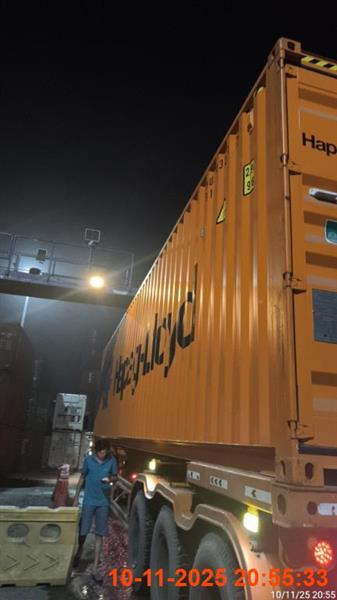broken: (88, 37, 335, 599), (70, 438, 118, 571)
